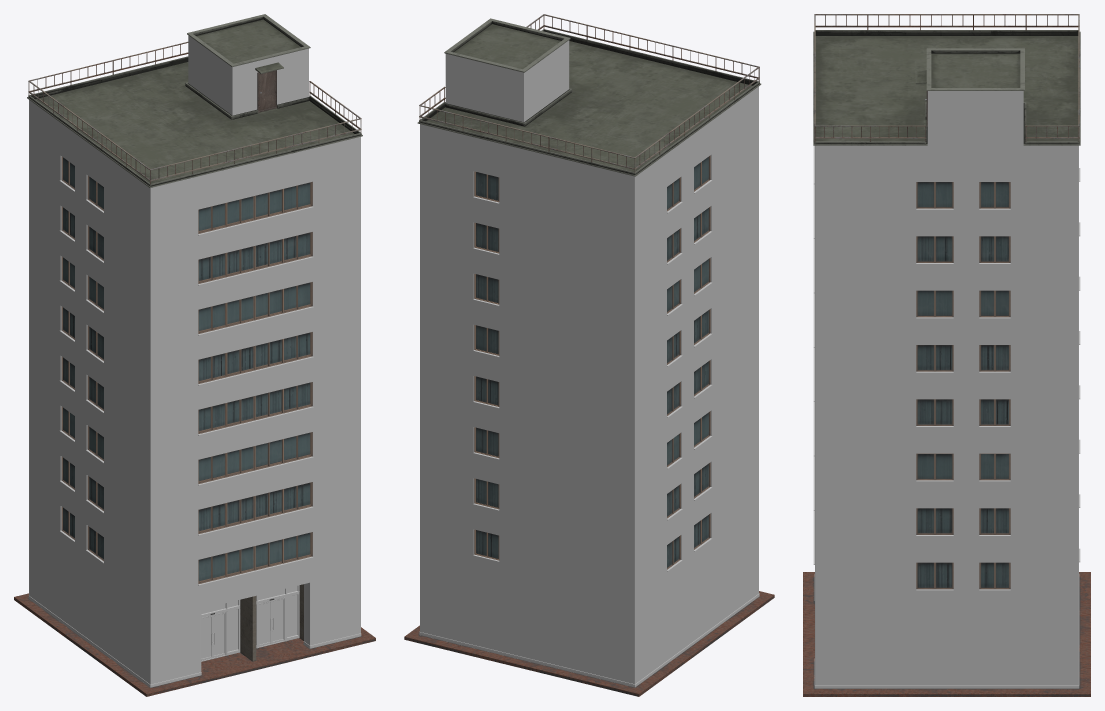
File: BldF.fbx
The picture shows the model from 3 angles, left to right: view 1: azimuth 30°, elevation 25°; view 2: azimuth 150°, elevation 25°; view 3: azimuth 270°, elevation 25°; orthographic projection. The views are drawn at different scales.
Parts seen in each view (by area): view 1: BldF_LOD0; view 2: BldF_LOD0; view 3: BldF_LOD0.
Boxes of the visible parts, <box> form: BldF_LOD0: <box>14,14,375,696</box>; BldF_LOD0: <box>404,14,774,696</box>; BldF_LOD0: <box>803,14,1090,696</box>.
Bounding box in the file's own units: 1200 × 2770 × 1200.
